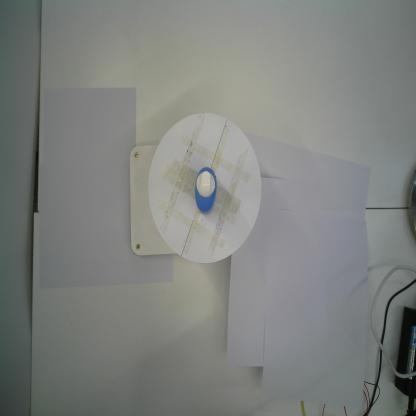Personal Hygiene: (195, 166, 217, 212)
